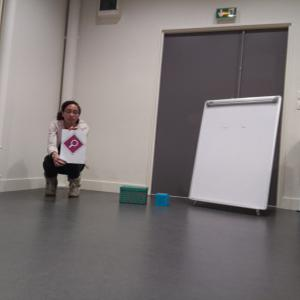search: (63, 134, 85, 154)
